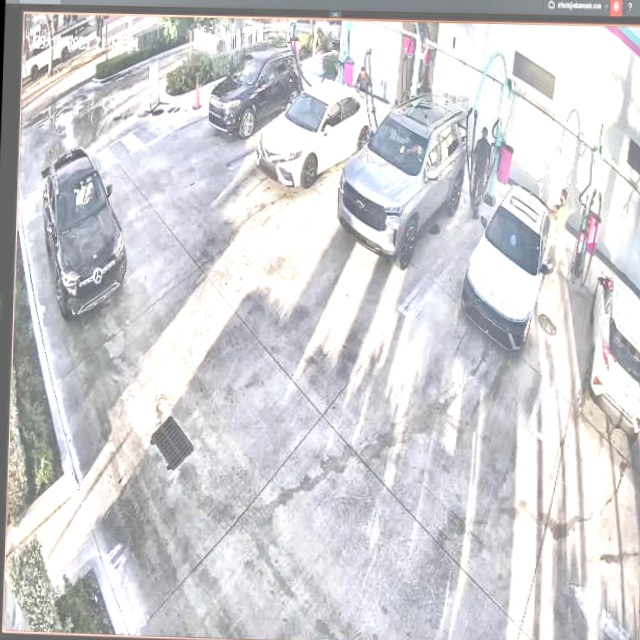Car: (333, 100, 463, 261), (459, 186, 552, 353), (265, 80, 376, 190)
